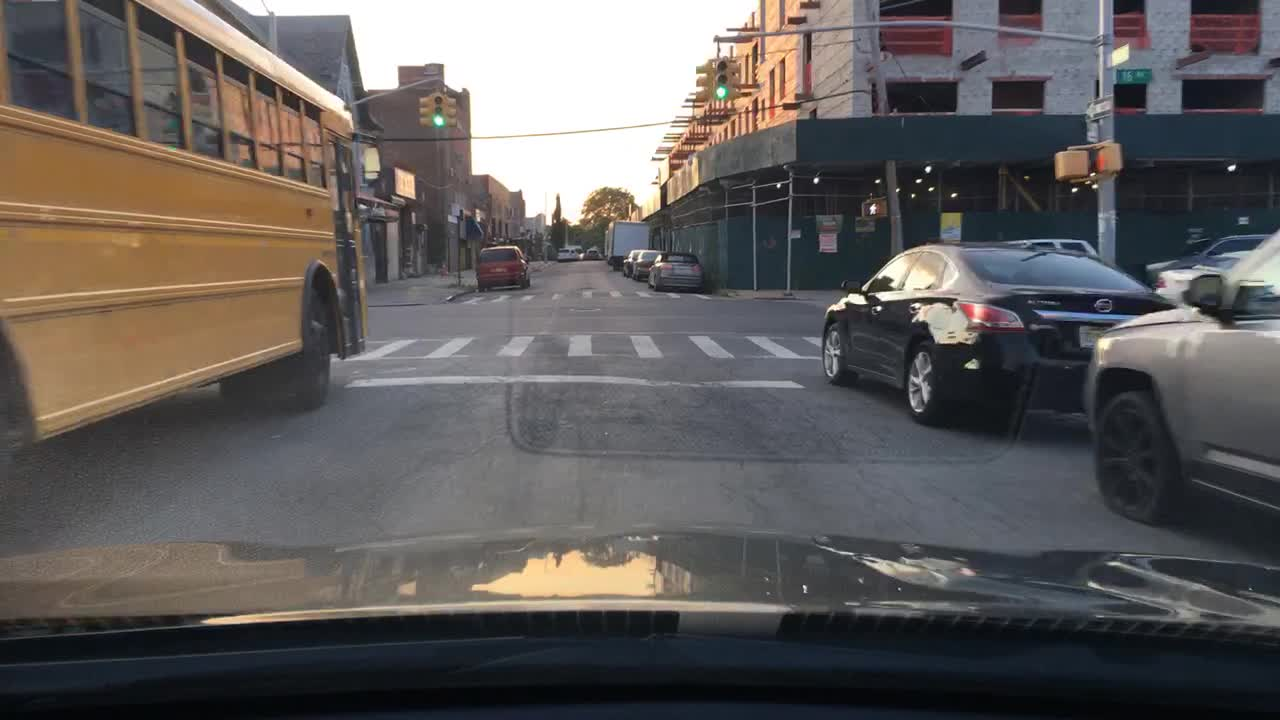bus: (0, 1, 386, 496)
car: (1080, 201, 1279, 544), (821, 237, 1168, 424), (1144, 233, 1277, 309), (1156, 248, 1253, 311), (475, 245, 531, 290), (648, 250, 702, 293), (633, 249, 670, 283), (623, 247, 647, 279), (554, 246, 581, 262), (586, 248, 601, 258)
traffic light: (1057, 141, 1091, 183), (1093, 141, 1126, 175), (858, 195, 890, 221), (711, 58, 727, 99), (430, 91, 446, 128), (696, 61, 711, 99), (446, 93, 461, 130), (413, 94, 429, 124), (732, 57, 742, 99)
traffic sign: (1079, 93, 1119, 119), (1114, 65, 1152, 85), (1105, 41, 1132, 67)
truck: (604, 218, 651, 271)
